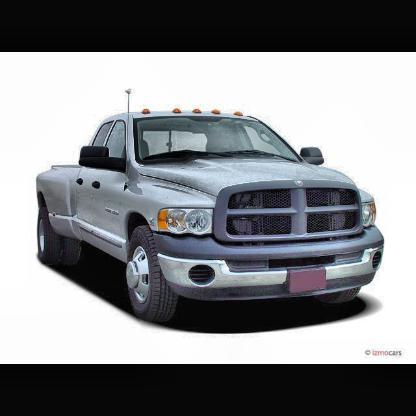Dodge Ram Pickup 3500 Quad Cab 2009: (36, 91, 388, 336)
